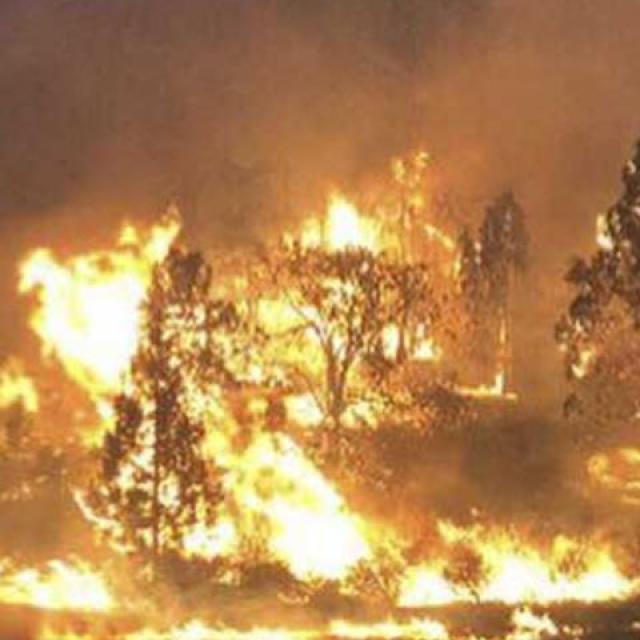Fire: (19, 208, 614, 632)
